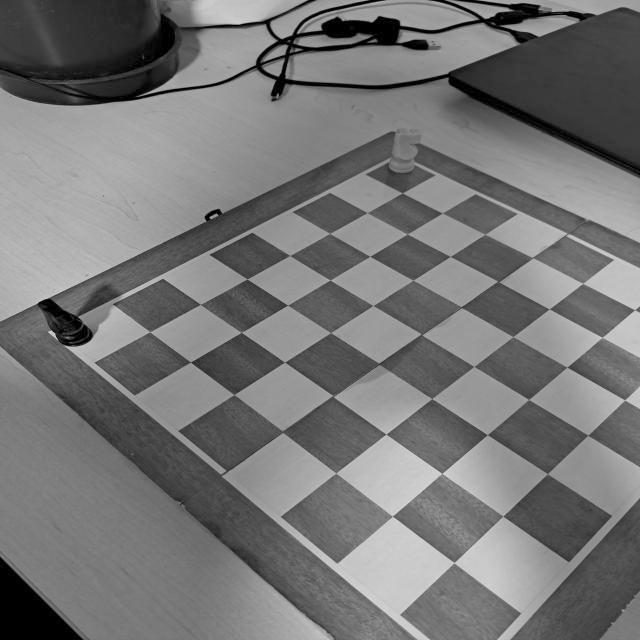chess-table-corners: (32, 315, 80, 351), (376, 145, 424, 179)
